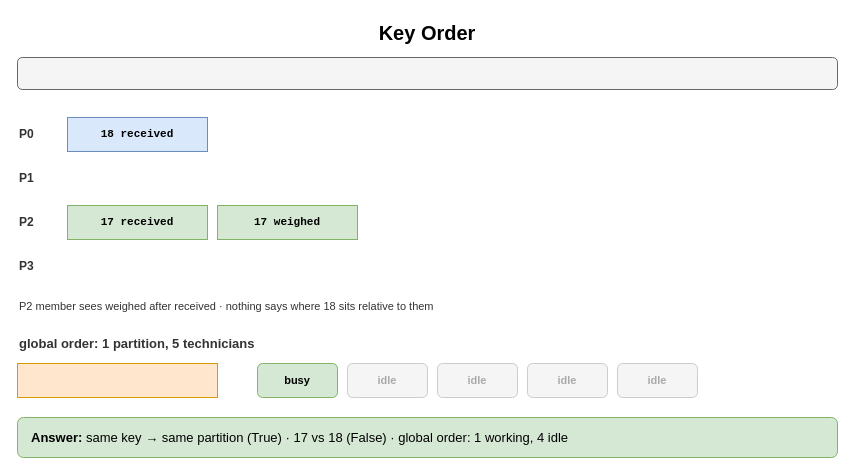
The diagram is 855 pixels wide and 475 high, and some of its shapes have lost their labels. Here are the shapes that lost their labels. From the top down, the centre of each, then its label:
At point 427,73: "Published: 17 received → 18 received → 17 weighed; four partitions".
At point 117,380: "P0 (everything)".
